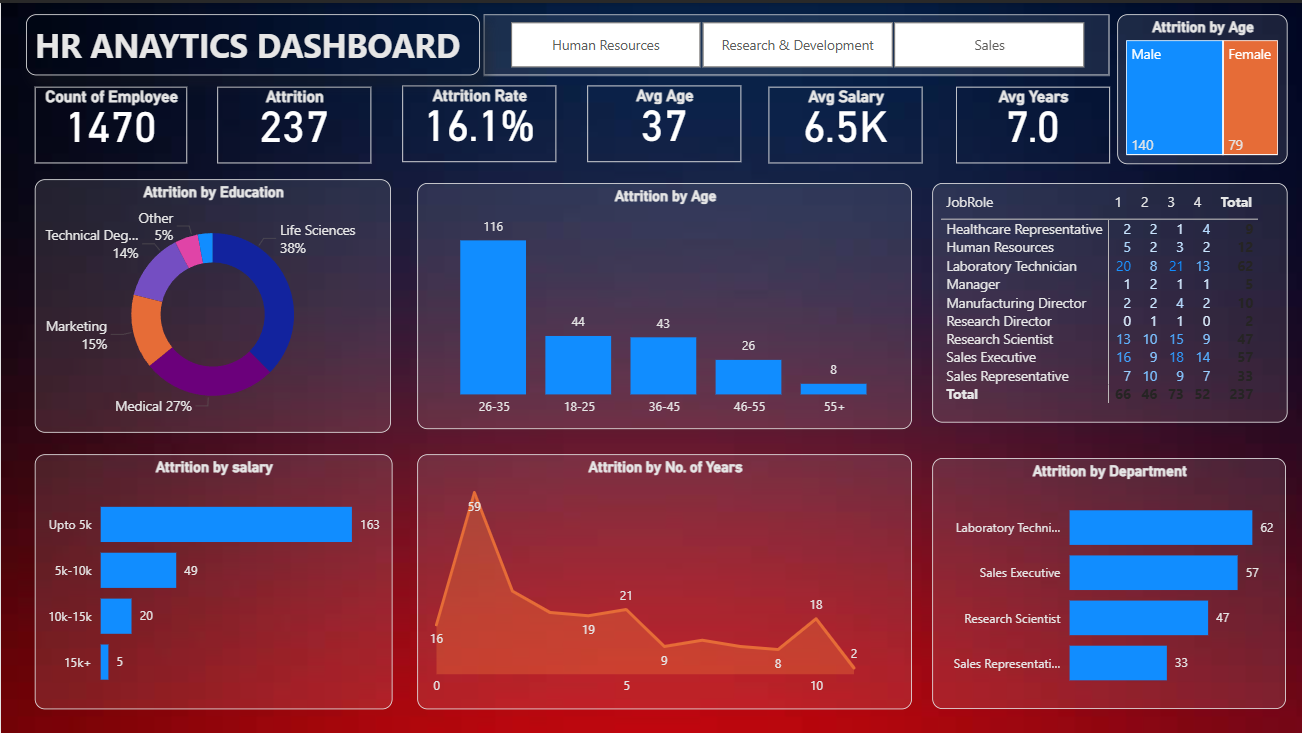

This screenshot's page, from the dashboard's own definition file:
{"tool":"powerbi","page":{"name":"Page 1","canvas":[1280,720],"ordinal":0},"visuals":[{"type":"card","title":"Count of Employee","fields":{"Values":["CountNonNull(HR_Analytics.EmpID)"]},"box":[33.1,82.2,149.7,74.8],"z":0},{"type":"card","title":"Attrition","fields":{"Values":["Sum(HR_Analytics.AttritionCount)"]},"box":[212.3,82.2,150.9,74.8],"z":1000},{"type":"card","title":"Attrition Rate","fields":{"Values":["HR_Analytics.AttritionRate"]},"box":[393.9,81,150.9,74.8],"z":2000},{"type":"card","title":"Avg Age","fields":{"Values":["Avg(HR_Analytics.Age)"]},"box":[575.5,81,150.9,74.8],"z":3000},{"type":"card","title":"Avg Salary","fields":{"Values":["Avg(HR_Analytics.MonthlyIncome)"]},"box":[753.4,82.2,150.9,74.8],"z":4000},{"type":"card","title":"Avg Years","fields":{"Values":["Avg(HR_Analytics.YearsAtCompany)"]},"box":[937.4,82.2,150.9,74.8],"z":5000},{"type":"donutChart","title":"Attrition by Education","fields":{"Category":["HR_Analytics.EducationField"],"Y":["Sum(HR_Analytics.AttritionCount)"]},"box":[33.1,173,349.7,249.1],"z":6000},{"type":"columnChart","title":"Attrition by Age","fields":{"Category":["HR_Analytics.AgeGroup"],"Y":["Sum(HR_Analytics.AttritionCount)"]},"box":[408.6,176.7,485.9,241.7],"z":7000},{"type":"pivotTable","title":"Attrition by Age","fields":{"Rows":["HR_Analytics.JobRole"],"Columns":["HR_Analytics.JobSatisfaction"],"Values":["Sum(HR_Analytics.AttritionCount)"]},"box":[914.1,176.7,348.5,235.6],"z":8000},{"type":"barChart","title":"Attrition by Department","fields":{"Category":["HR_Analytics.JobRole"],"Y":["Sum(HR_Analytics.AttritionCount)"]},"box":[914.1,446.6,347.2,246.6],"z":9000},{"type":"barChart","title":"Attrition by salary","fields":{"Category":["HR_Analytics.SalarySlab"],"Y":["Sum(HR_Analytics.AttritionCount)"]},"box":[33.1,442.9,350.9,250.3],"z":10000},{"type":"areaChart","title":"Attrition by No. of Years","fields":{"Category":["HR_Analytics.YearsAtCompany"],"Y":["Sum(HR_Analytics.AttritionCount)"]},"box":[408.6,442.9,485.9,250.3],"z":11000},{"type":"treemap","title":"Attrition by Age","fields":{"Group":["HR_Analytics.Gender"],"Values":["Sum(HR_Analytics.AttritionCount)"]},"box":[1095.7,11,166.9,147.2],"z":12000},{"type":"slicer","fields":{"Values":["HR_Analytics.Department"]},"box":[473.6,11,614.7,60.1],"z":13000},{"type":"textbox","box":[24.5,11,445.4,60.1],"z":13001}]}

Visuals, with their boxes in screenshot pixels (x1, y1, x2, y2), scaled from the page's 1280x720 canvas onto the 1302x733 screenshot:
"Count of Employee" card: Rect(34, 84, 186, 160)
"Attrition" card: Rect(216, 84, 369, 160)
"Attrition Rate" card: Rect(401, 82, 554, 159)
"Avg Age" card: Rect(585, 82, 739, 159)
"Avg Salary" card: Rect(766, 84, 920, 160)
"Avg Years" card: Rect(954, 84, 1107, 160)
"Attrition by Education" donutChart: Rect(34, 176, 389, 430)
"Attrition by Age" columnChart: Rect(416, 180, 910, 426)
"Attrition by Age" pivotTable: Rect(930, 180, 1284, 420)
"Attrition by Department" barChart: Rect(930, 455, 1283, 706)
"Attrition by salary" barChart: Rect(34, 451, 391, 706)
"Attrition by No. of Years" areaChart: Rect(416, 451, 910, 706)
"Attrition by Age" treemap: Rect(1115, 11, 1284, 161)
slicer - HR_Analytics.Department: Rect(482, 11, 1107, 72)
textbox: Rect(25, 11, 478, 72)
